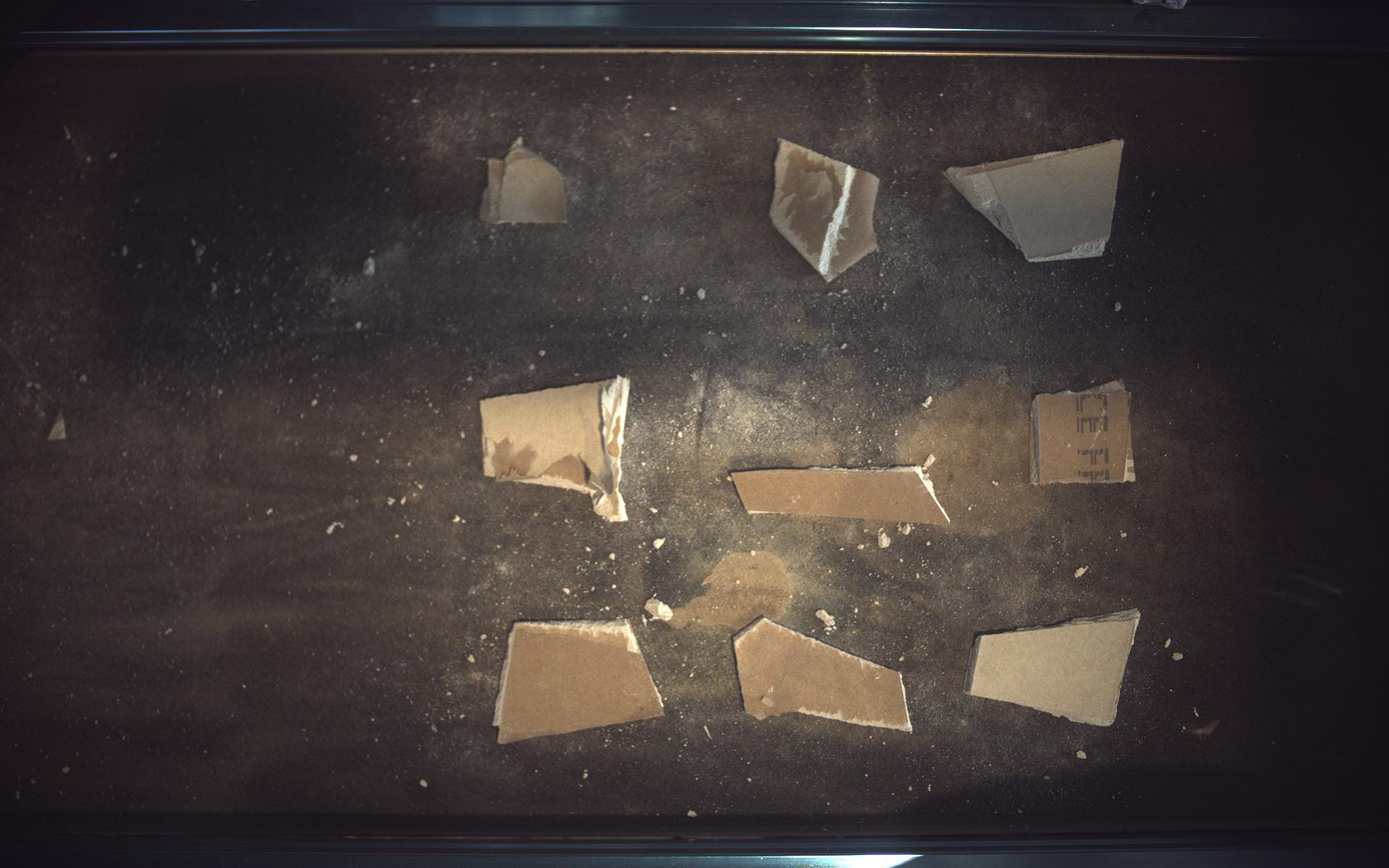gypsum_board: (481, 376, 631, 522), (948, 139, 1126, 261), (494, 619, 665, 745), (968, 610, 1143, 728), (736, 618, 914, 733), (771, 138, 881, 281), (732, 467, 951, 524), (1034, 380, 1138, 485), (480, 137, 567, 223)
